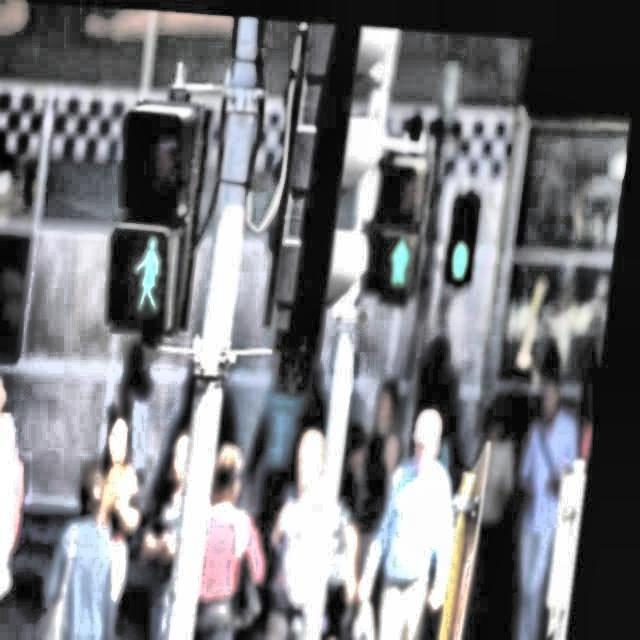semaforo pedestre: (48, 73, 240, 364), (342, 118, 444, 328), (430, 168, 508, 302)
